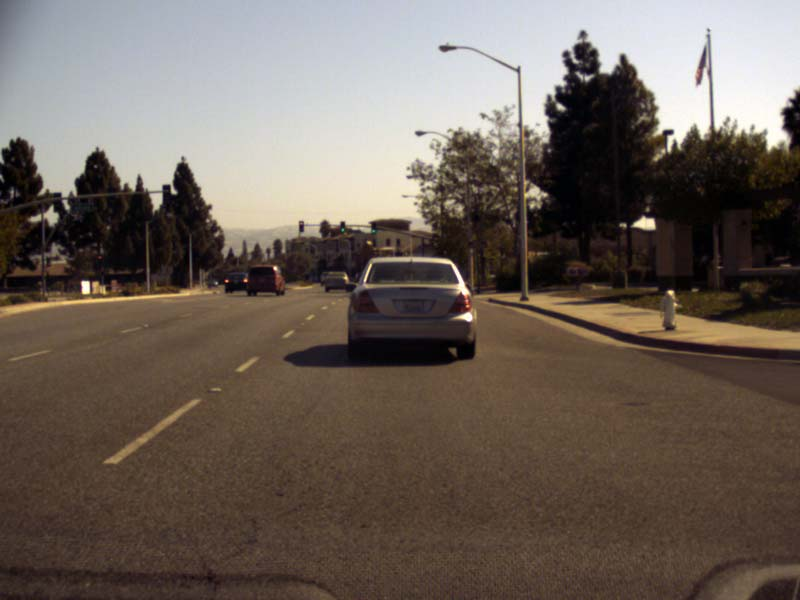Green: (371, 222, 376, 233), (340, 221, 345, 231)
Red: (96, 254, 103, 268), (298, 221, 303, 232)
